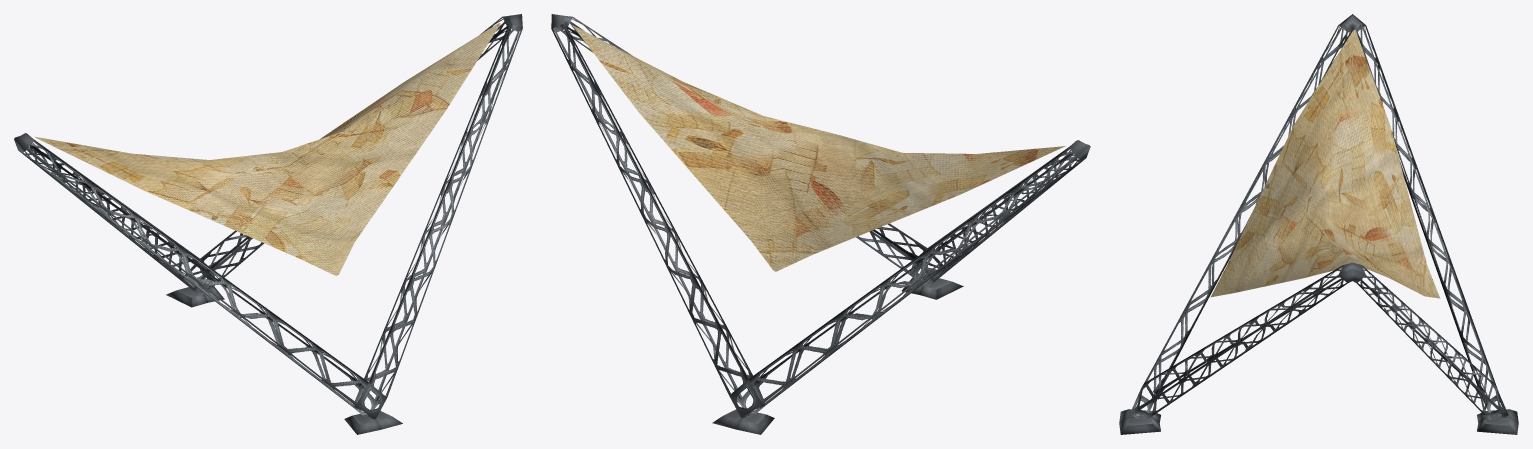
File: SailCanopy1.fbx
The picture shows the model from 3 angles, left to right: view 1: azimuth 30°, elevation 25°; view 2: azimuth 150°, elevation 25°; view 3: azimuth 270°, elevation 25°; orthographic projection. The views are drawn at different scales.
Parts seen in each view (by area): view 1: Cube.003, Cube; view 2: Cube.003, Cube; view 3: Cube.003, Cube.
Part boxes in pixels (x1,y1,x2,y2): Cube.003: (35,23,500,275); Cube: (14,14,522,434); Cube.003: (572,25,1065,271); Cube: (551,14,1090,434); Cube.003: (1211,30,1440,298); Cube: (1119,14,1518,434).
Bounding box in the file's own units: 388 × 200 × 256.
